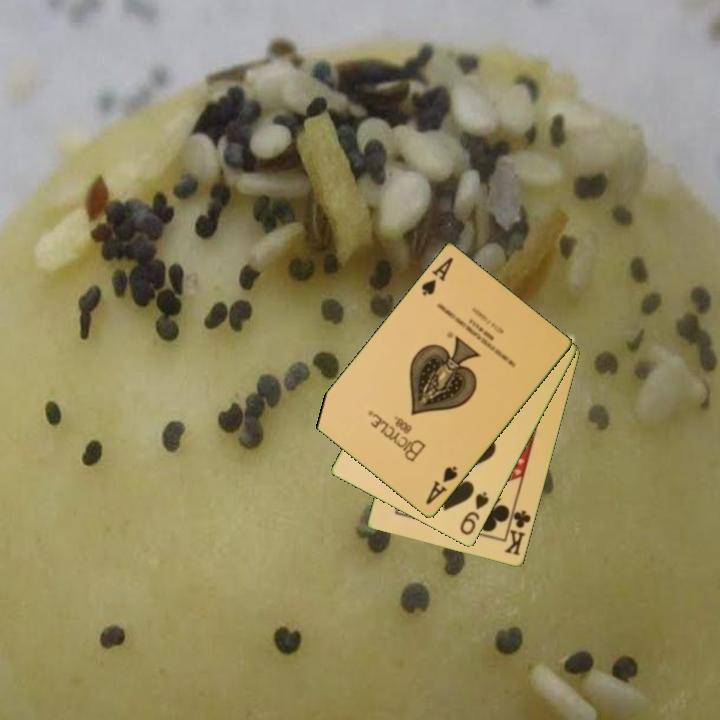9s: (456, 488, 492, 538)
As: (422, 462, 461, 508), (418, 254, 456, 299)
Kc: (501, 503, 534, 559)
